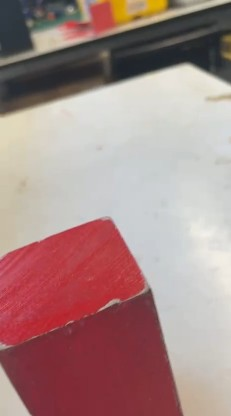red: (0, 216, 188, 414)
